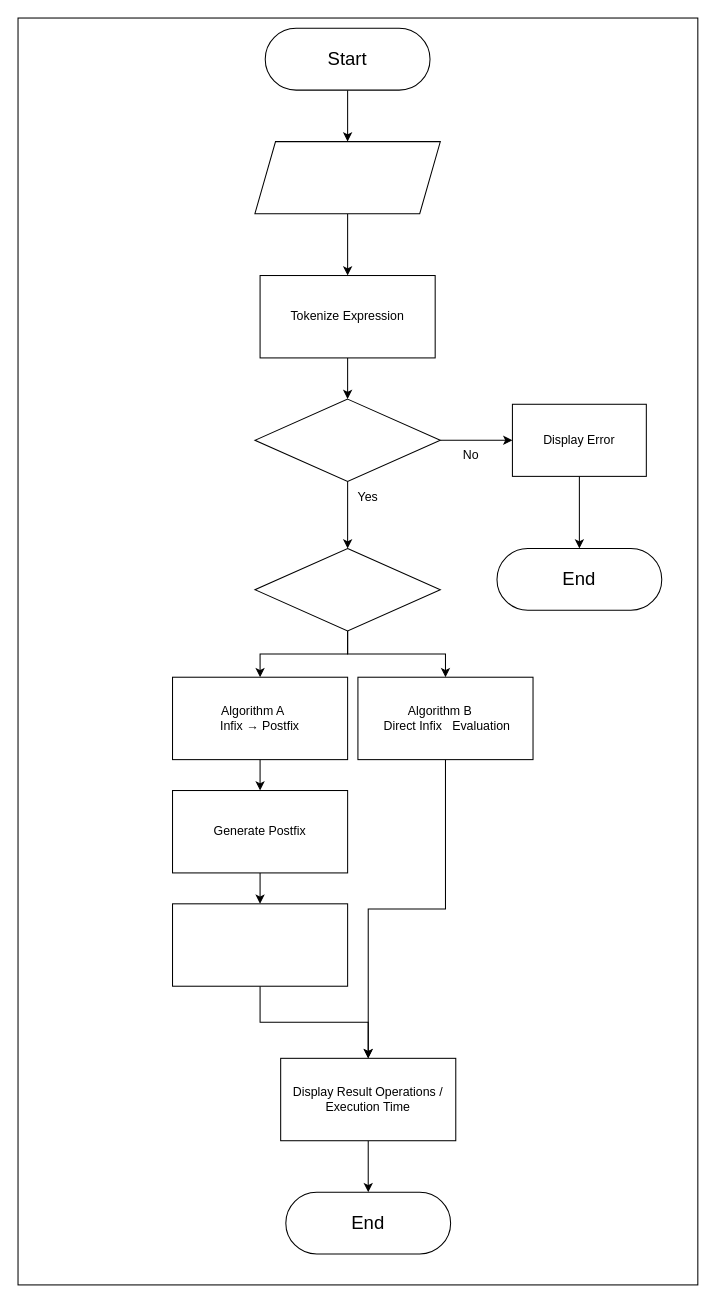
Image size: 716x1303. Some labels were removed from this diagram. Here are the shapes that lost their labels. From the top down, the box of each, then its label:
(254, 141, 440, 214): Input Mathematical Expression
(254, 398, 440, 482): Valid Input?
(254, 547, 440, 631): Select Algorithm A or B
(171, 903, 348, 986): Evaluate Postfix using Operand Stack
